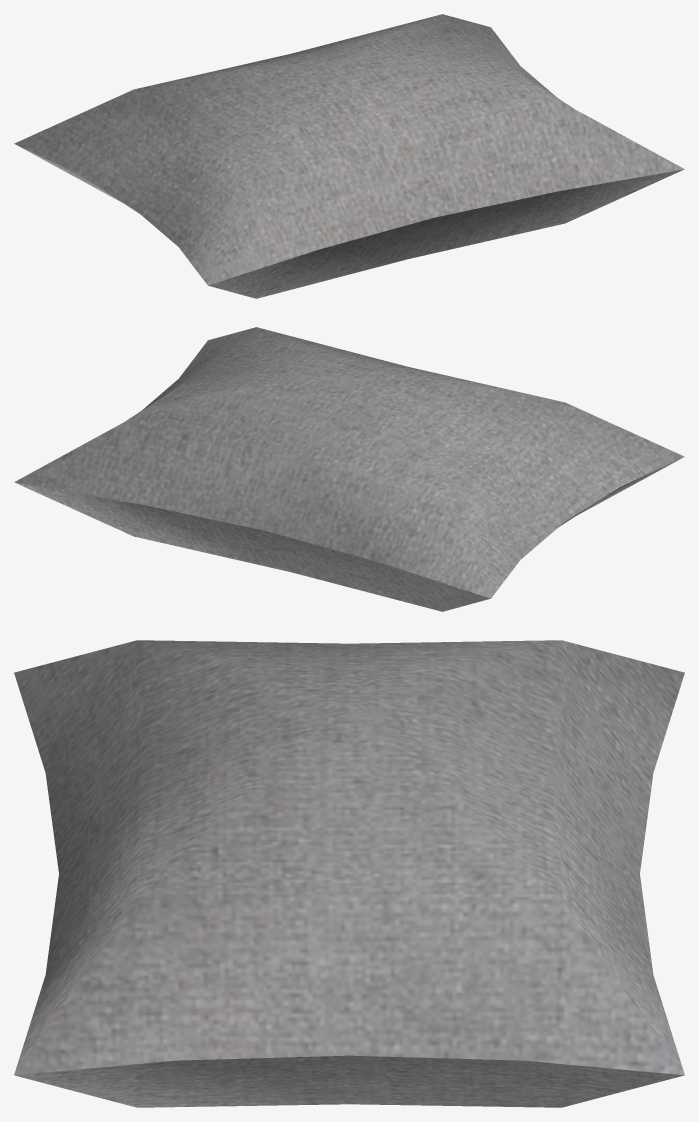
File: pillow sofa.FBX
3 views of the same model, one above another, from view 1: azimuth 30°, elevation 25°; view 2: azimuth 150°, elevation 25°; view 3: azimuth 270°, elevation 25° (orthographic). The views are drawn at different scales.
Parts seen in each view (by area): view 1: pillow sofa; view 2: pillow sofa; view 3: pillow sofa.
Part boxes in pixels (bbox=[...]): pillow sofa: bbox=[14, 14, 684, 298]; pillow sofa: bbox=[14, 327, 684, 611]; pillow sofa: bbox=[14, 640, 684, 1107].
Bounding box in the file's own units: 24.43 × 17.2 × 9.12.
